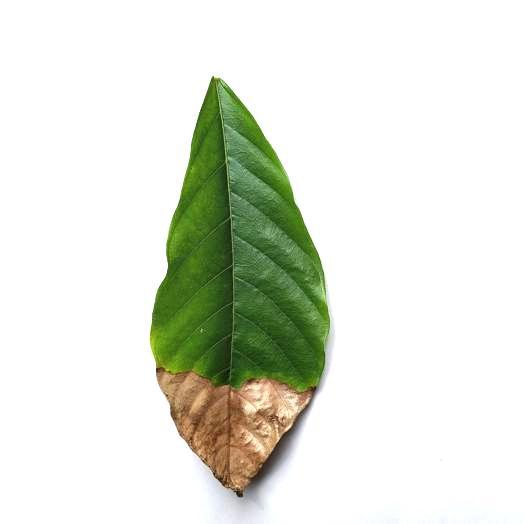Potassium: (150, 78, 329, 494)
